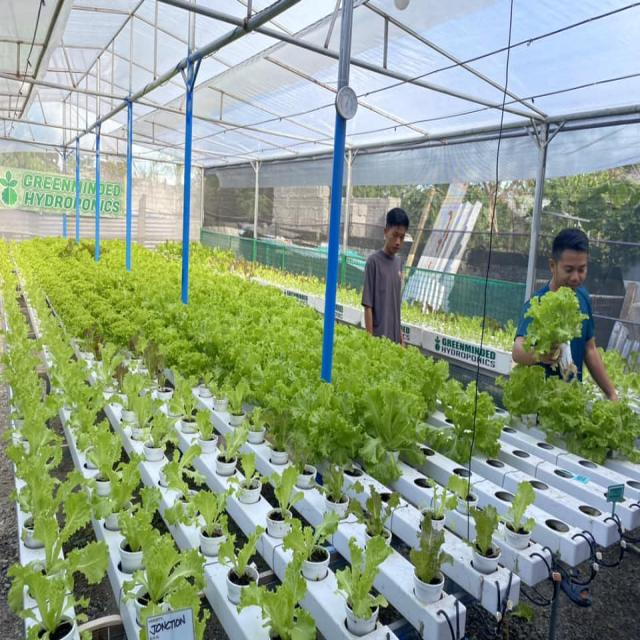Lettuce-Not-Ready-to-Harvest: (7, 540, 109, 630), (127, 533, 207, 631), (236, 561, 316, 640), (338, 534, 388, 621), (115, 484, 159, 547), (409, 512, 445, 583), (219, 526, 265, 577), (283, 515, 337, 556), (192, 485, 234, 537), (270, 465, 303, 519), (470, 505, 498, 557), (509, 481, 536, 533)
